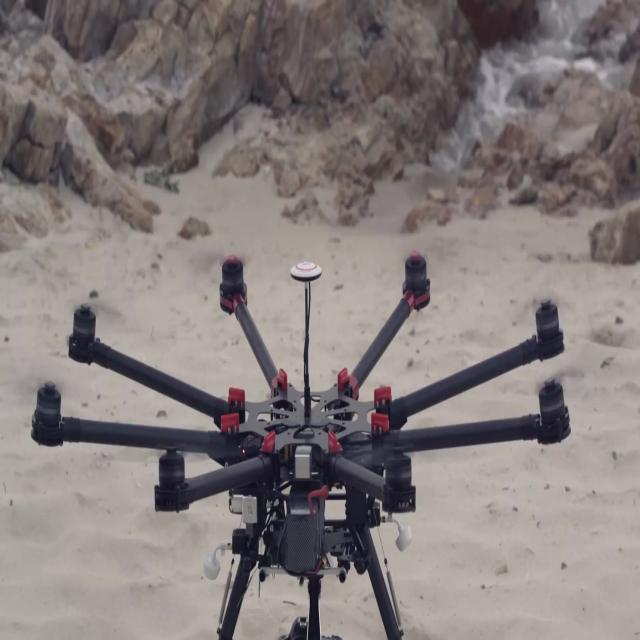drone: (31, 199, 582, 640)
